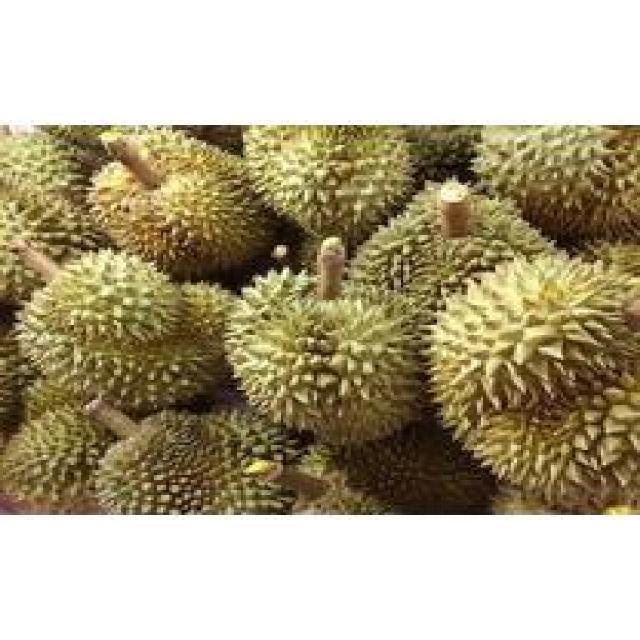fruit: (400, 222, 640, 510), (206, 250, 446, 475), (0, 230, 231, 448), (80, 132, 289, 300), (228, 125, 437, 263), (0, 113, 120, 335)
